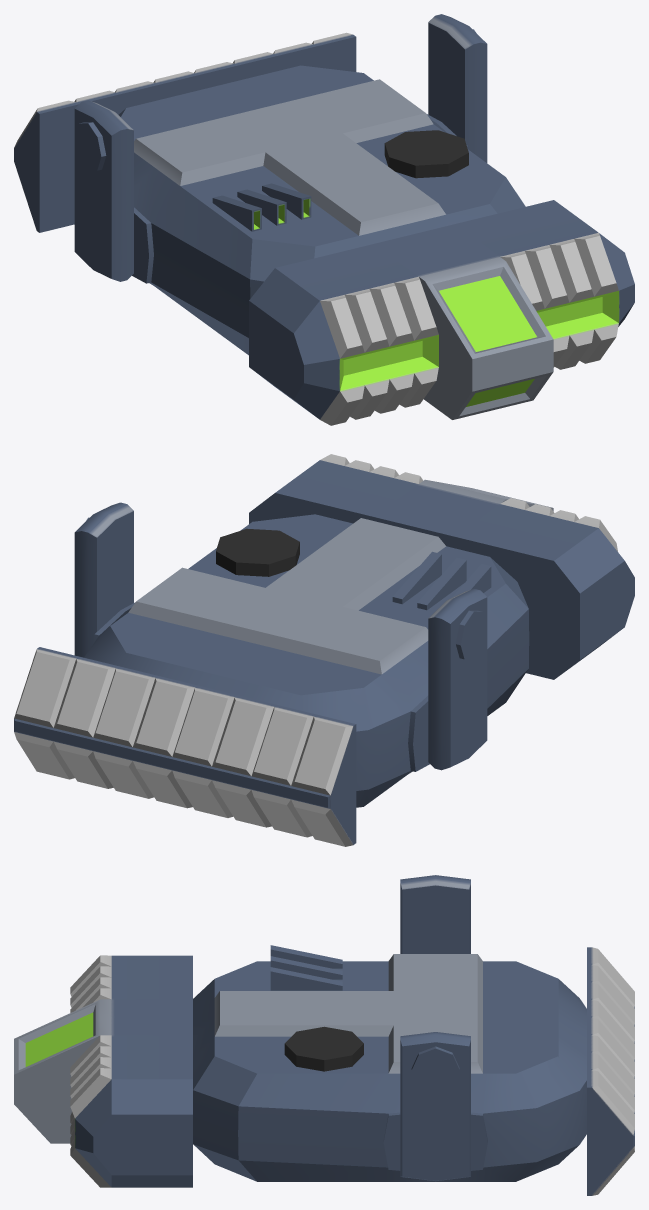
The model's file is WeaponBaseType2.fbx.
3 renders of one model, top to bottom at view 1: azimuth 30°, elevation 25°; view 2: azimuth 150°, elevation 25°; view 3: azimuth 270°, elevation 25°, orthographic. The views are drawn at different scales.
Parts seen in each view (by area): view 1: WeaponBaseT2; view 2: WeaponBaseT2; view 3: WeaponBaseT2.
Boxes of the visible parts, bbox=[...] form: WeaponBaseT2: bbox=[14, 14, 634, 425]; WeaponBaseT2: bbox=[14, 454, 634, 846]; WeaponBaseT2: bbox=[14, 875, 634, 1195].
Bounding box in the file's own units: 39.13 × 18.47 × 60.02.
